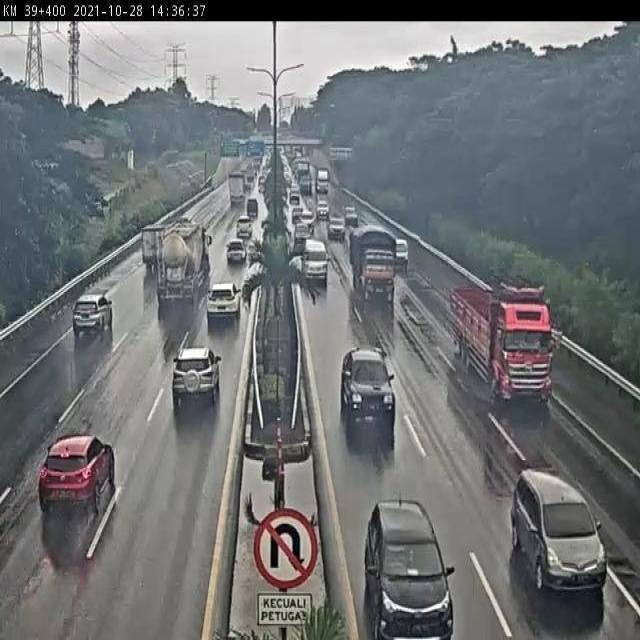Car: (361, 499, 456, 640), (509, 465, 608, 594), (36, 429, 119, 514), (338, 345, 396, 425), (169, 345, 221, 408), (70, 292, 114, 337), (206, 281, 242, 326), (226, 238, 246, 264), (293, 219, 311, 247), (236, 216, 254, 241), (329, 214, 345, 239), (301, 209, 316, 231), (246, 197, 259, 219), (344, 207, 358, 227), (317, 200, 329, 220), (291, 204, 303, 223), (289, 189, 300, 207)
Truck: (448, 277, 555, 408), (244, 274, 308, 469), (151, 216, 214, 307), (349, 224, 399, 303), (140, 222, 167, 270), (228, 171, 246, 205), (395, 237, 410, 270), (294, 158, 312, 183), (298, 169, 312, 198), (316, 167, 330, 194), (244, 160, 258, 187)
Van: (299, 238, 331, 289)
